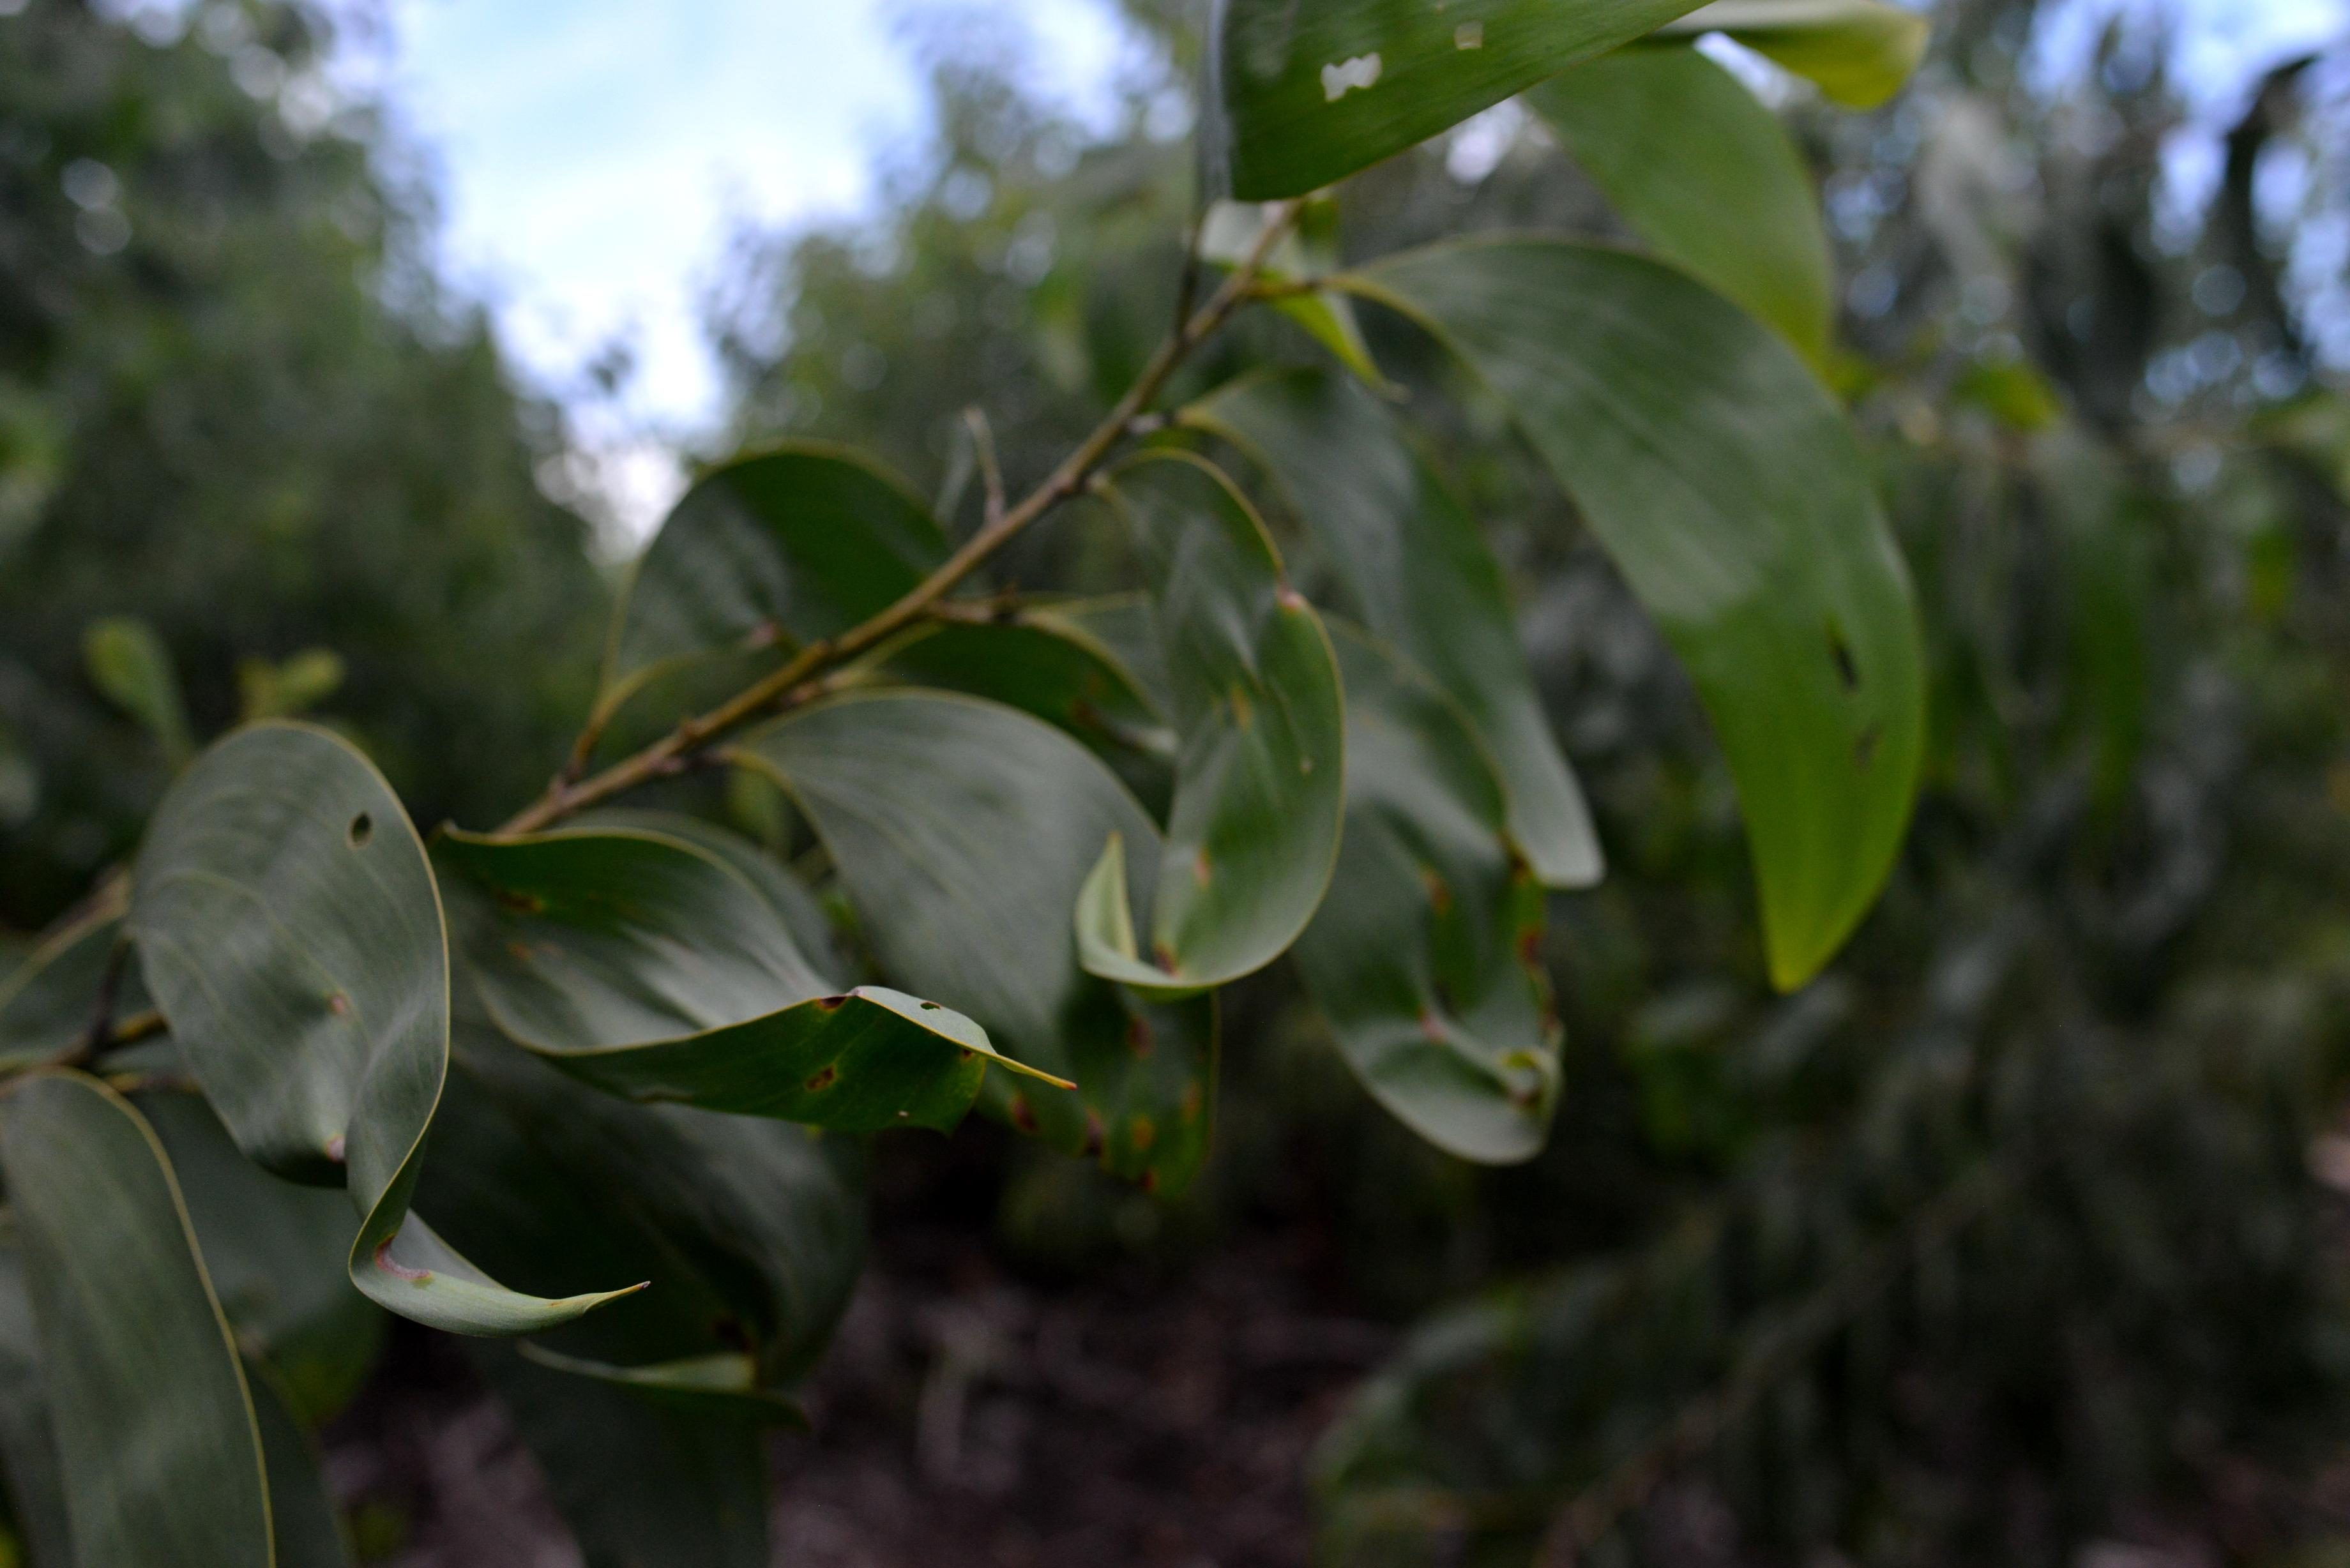Pasalora: (462, 784, 1036, 1137), (138, 719, 443, 1332), (1052, 453, 1342, 997), (1360, 625, 1584, 1160), (595, 425, 996, 667)
